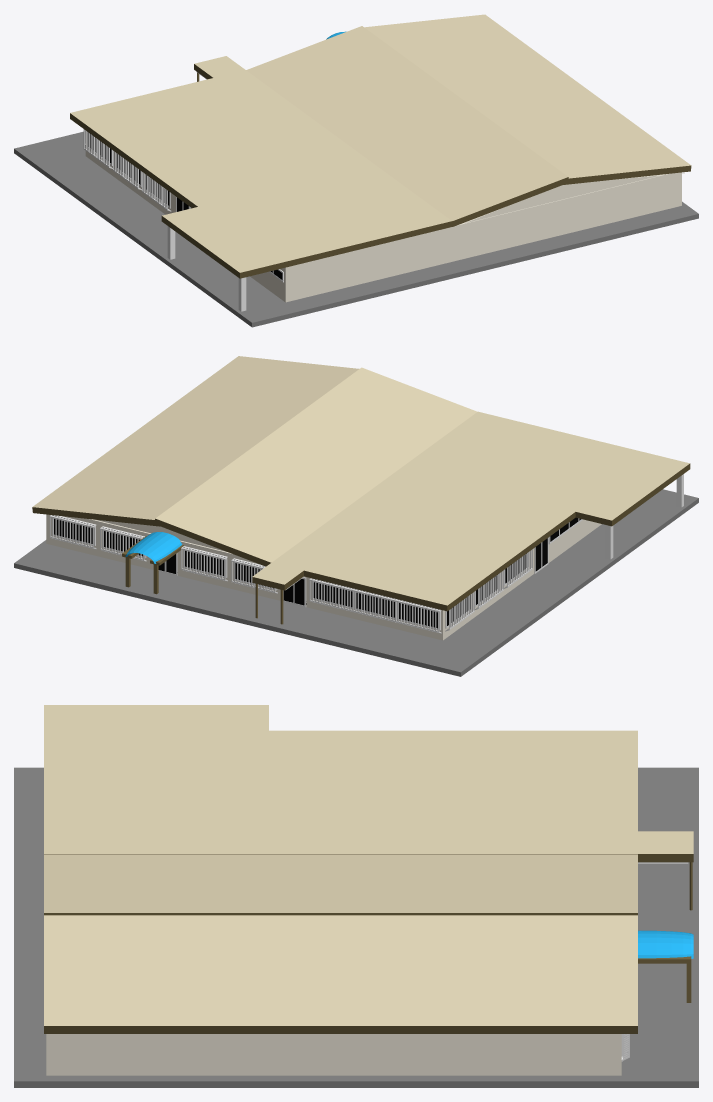
File: Caff.glb
3 views of the same model, one above another, from view 1: azimuth 30°, elevation 25°; view 2: azimuth 150°, elevation 25°; view 3: azimuth 270°, elevation 25° (orthographic). The views are drawn at different scales.
Parts seen in each view (by area): view 1: cube.711; view 2: cube.711; view 3: cube.711.
Part boxes in pixels (x1,y1,x2,y2): cube.711: [14, 14, 698, 327]; cube.711: [14, 356, 698, 676]; cube.711: [14, 705, 698, 1087].
Bounding box in the file's own units: 10.19 × 1.35 × 9.23.
Materials: 10 (9 with a texture image).
